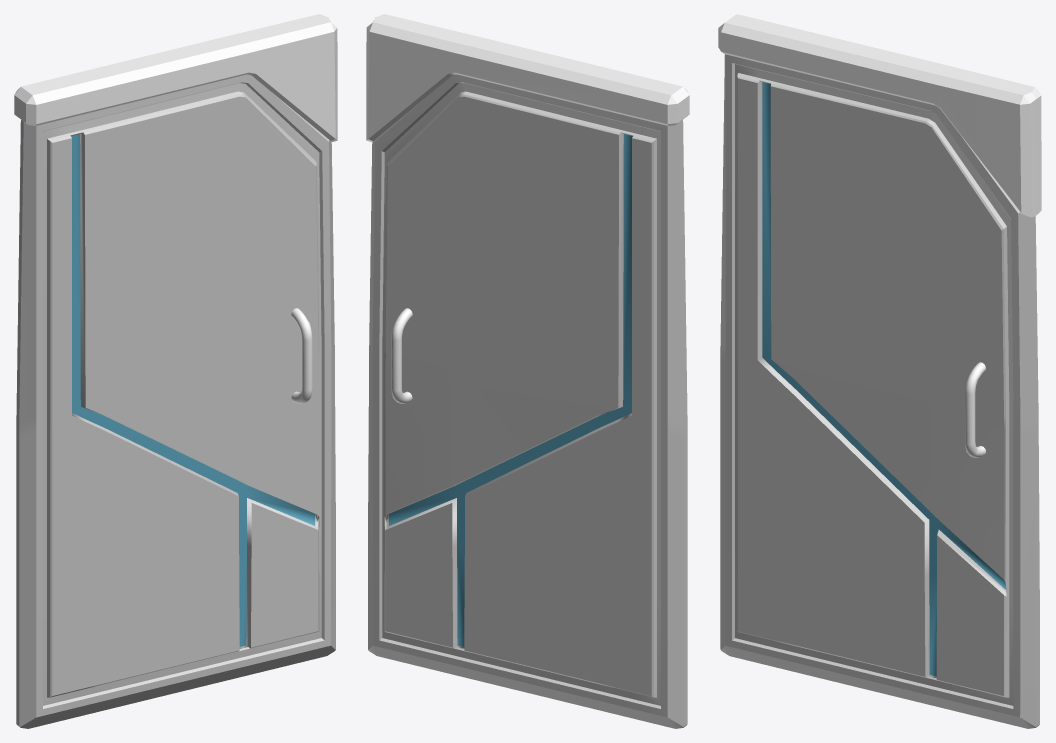
Rendered from PorteUsine2.fbx.
The picture shows the model from 3 angles, left to right: view 1: azimuth 30°, elevation 25°; view 2: azimuth 150°, elevation 25°; view 3: azimuth 330°, elevation 25°; orthographic projection.
Parts seen in each view (by area): view 1: polySurface18; view 2: polySurface18; view 3: polySurface18.
Part boxes in pixels (x1=…): polySurface18: x1=14, y1=14, x2=337, y2=728; polySurface18: x1=366, y1=14, x2=689, y2=728; polySurface18: x1=718, y1=14, x2=1041, y2=728.
Size of the model in its own units: 105 by 203 by 26.77.
